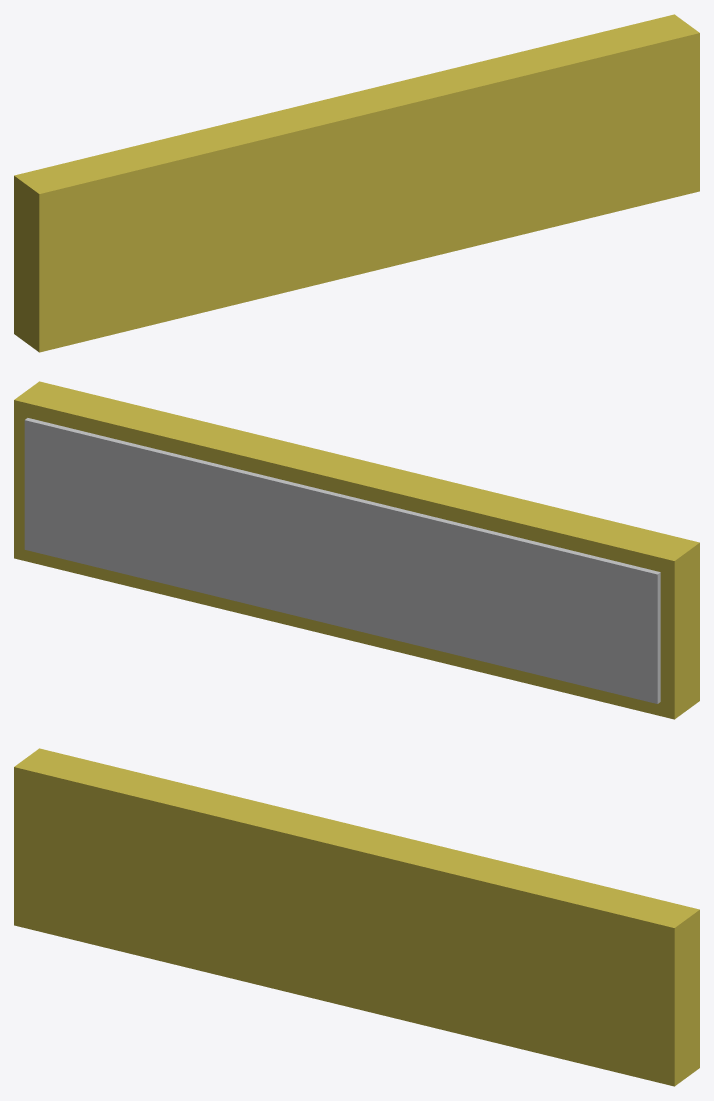
The model's file is hk-prop-lightbox.glb.
3 renders of one model, top to bottom at view 1: azimuth 30°, elevation 25°; view 2: azimuth 150°, elevation 25°; view 3: azimuth 330°, elevation 25°, orthographic.
Parts seen in each view (by area): view 1: hk-prop-lightbox; view 2: hk-prop-lightbox; view 3: hk-prop-lightbox.
Boxes of the visible parts, <box> form: hk-prop-lightbox: <box>14,14,699,352</box>; hk-prop-lightbox: <box>14,381,699,719</box>; hk-prop-lightbox: <box>14,748,699,1086</box>.
Size of the model in its own units: 2.4 by 0.55 by 0.18.
